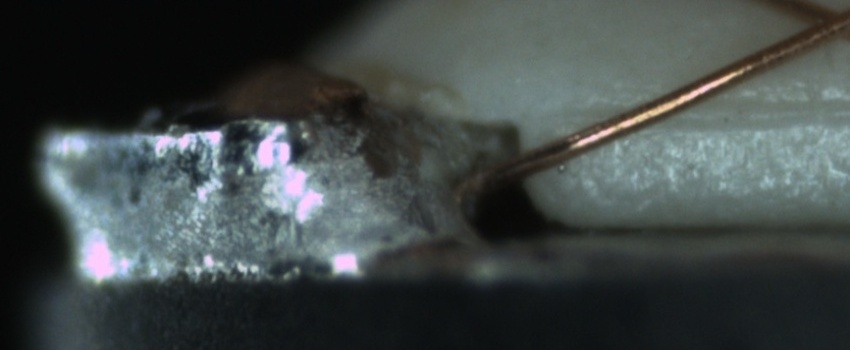CL: (782, 0, 849, 48)
DL: (605, 76, 846, 148)
